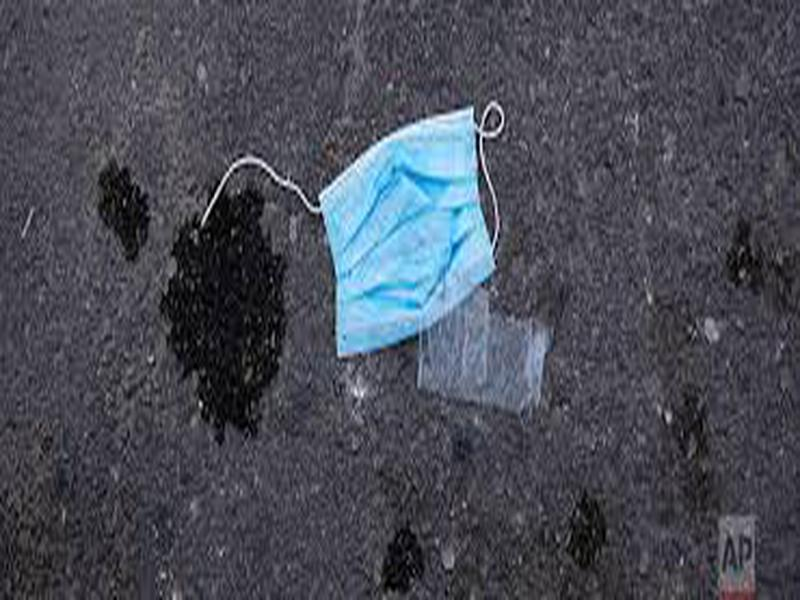mask: (195, 94, 538, 361)
